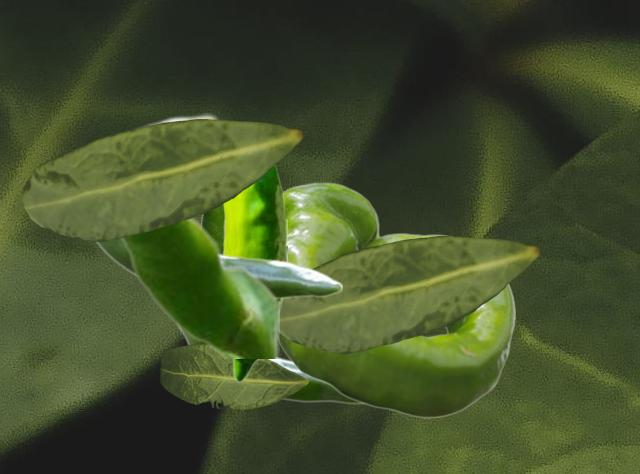green_chili: (279, 182, 514, 417), (110, 113, 278, 357), (94, 239, 341, 298), (220, 164, 286, 381), (179, 330, 358, 403), (200, 206, 222, 248)
